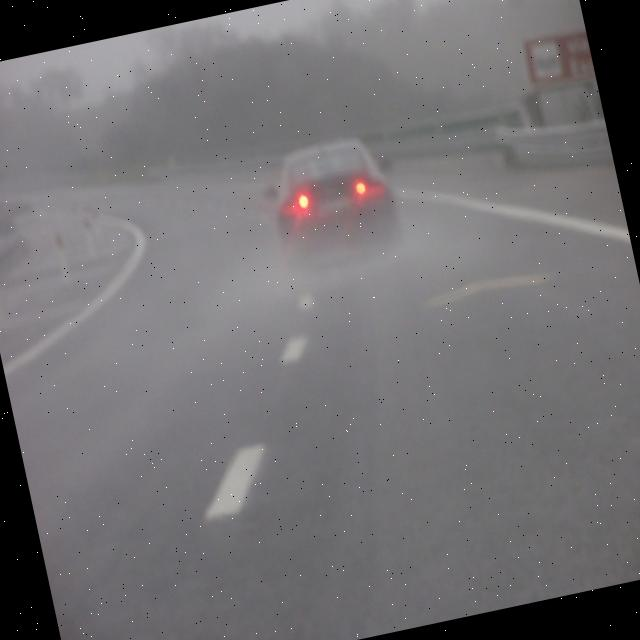car: (264, 132, 402, 254)
